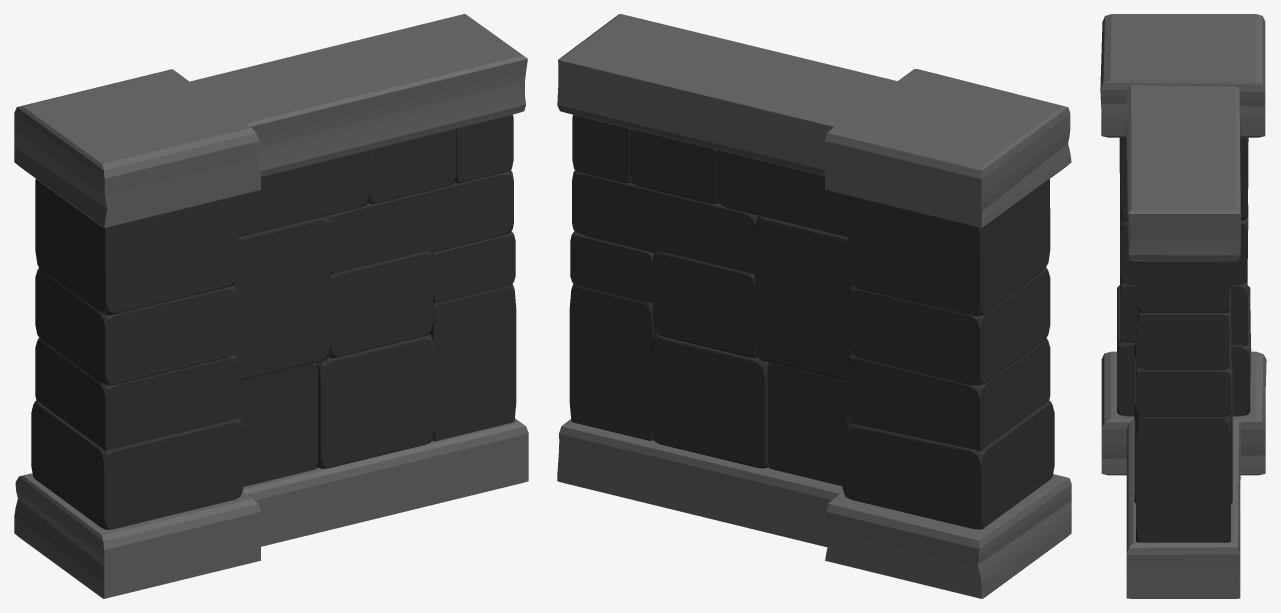
File: Wall_01_1Pillar.fbx
3 renders of one model, left to right at view 1: azimuth 30°, elevation 25°; view 2: azimuth 150°, elevation 25°; view 3: azimuth 270°, elevation 25°, orthographic. The views are drawn at different scales.
Parts seen in each view (by area): view 1: Wall_01_1Pillar; view 2: Wall_01_1Pillar; view 3: Wall_01_1Pillar.
Part boxes in pixels (box(x1,y1,x2,y2)): Wall_01_1Pillar: box(14, 14, 528, 598); Wall_01_1Pillar: box(557, 14, 1071, 598); Wall_01_1Pillar: box(1100, 14, 1266, 598).
Size of the model in its own units: 435 by 410 by 156.
